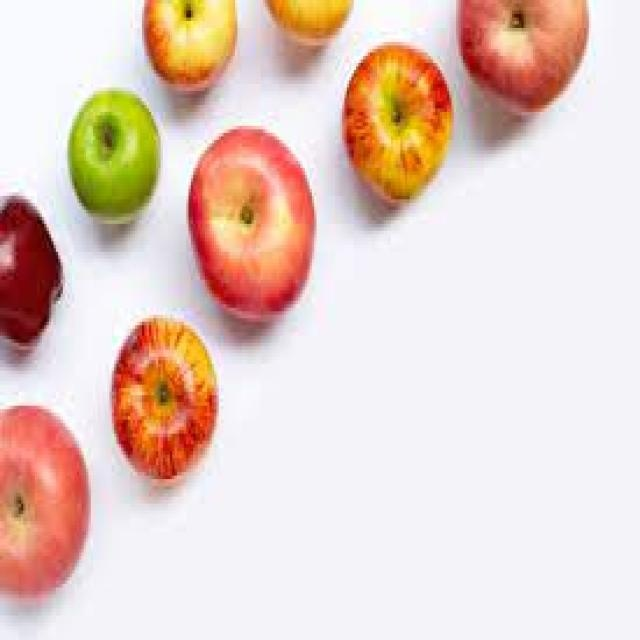agrume: (175, 93, 345, 338), (104, 288, 230, 507), (331, 27, 459, 220), (0, 394, 103, 618), (441, 0, 608, 127), (62, 66, 166, 237), (118, 0, 256, 110), (0, 177, 74, 371), (257, 0, 358, 70)
